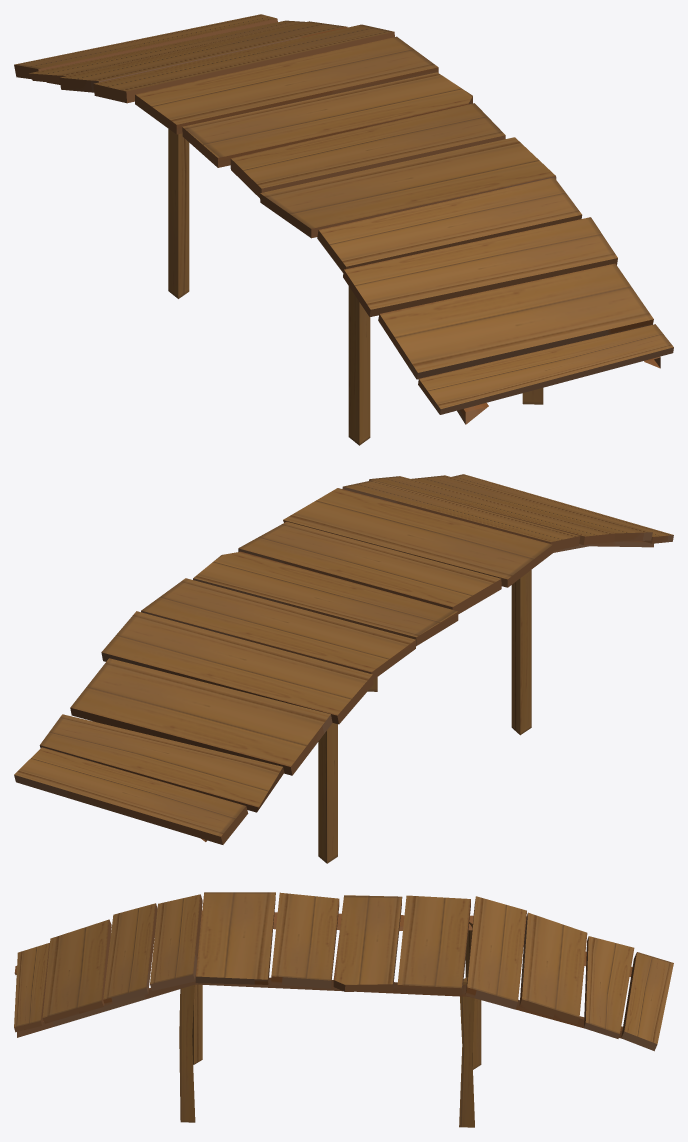
The model's file is SM_Bridge_01.fbx.
3 views of the same model, one above another, from view 1: azimuth 30°, elevation 25°; view 2: azimuth 150°, elevation 25°; view 3: azimuth 270°, elevation 25° (orthographic). The views are drawn at different scales.
Parts seen in each view (by area): view 1: SM_Bridge_01; view 2: SM_Bridge_01; view 3: SM_Bridge_01.
Boxes of the visible parts, bbox=[...] form: SM_Bridge_01: bbox=[14, 14, 673, 445]; SM_Bridge_01: bbox=[14, 474, 673, 863]; SM_Bridge_01: bbox=[14, 892, 673, 1127].
Bounding box in the file's own units: 2.05 × 1.56 × 5.99.
